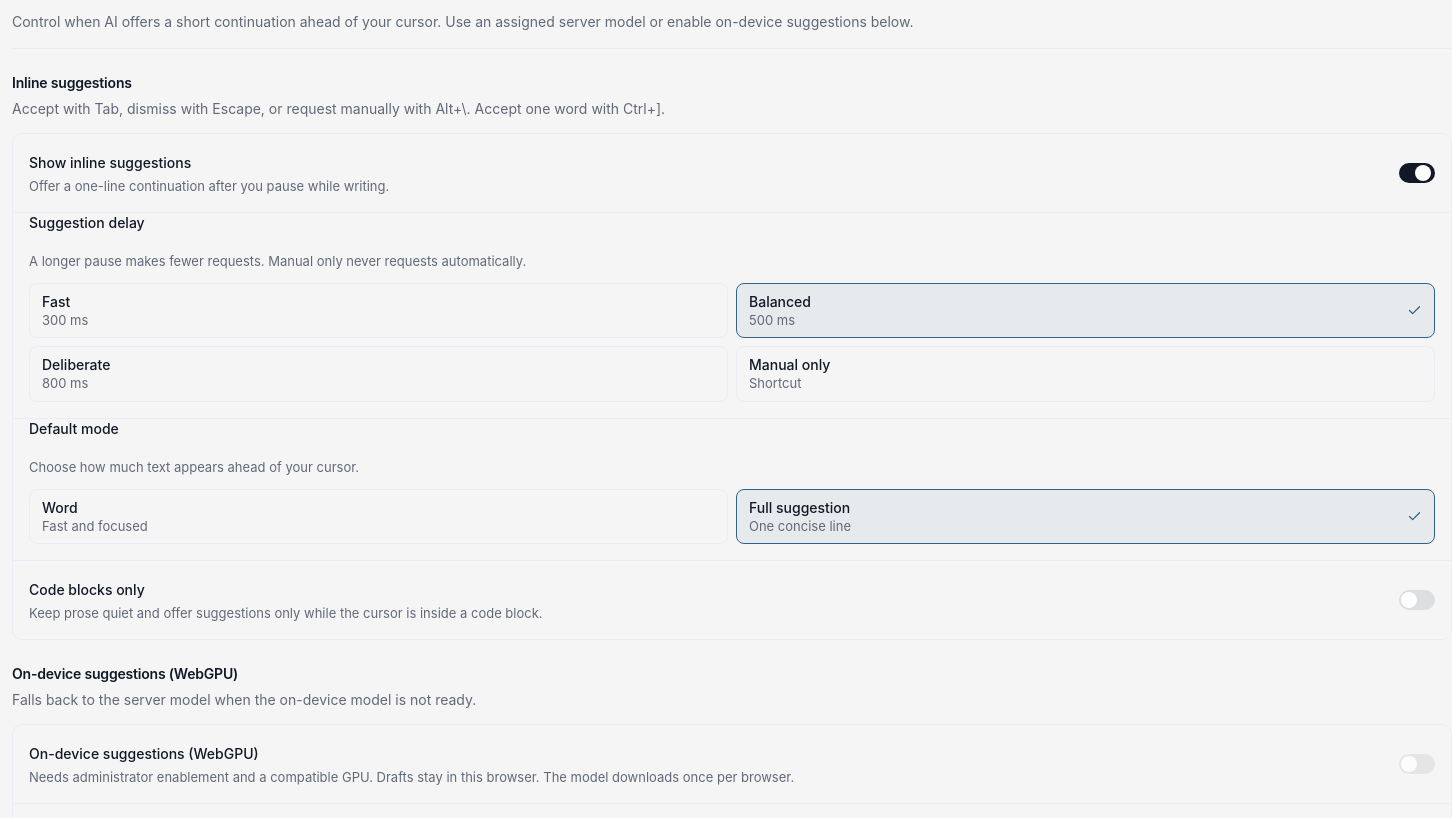
Test case: EditorPreferencesTab (#1417) › disables automatic delay choices when suggestions are off
Click the switch named "Show inline suggestions" in the row of "Show inline suggestions". click: [1417, 173]
box: [1399,163,1435,183]
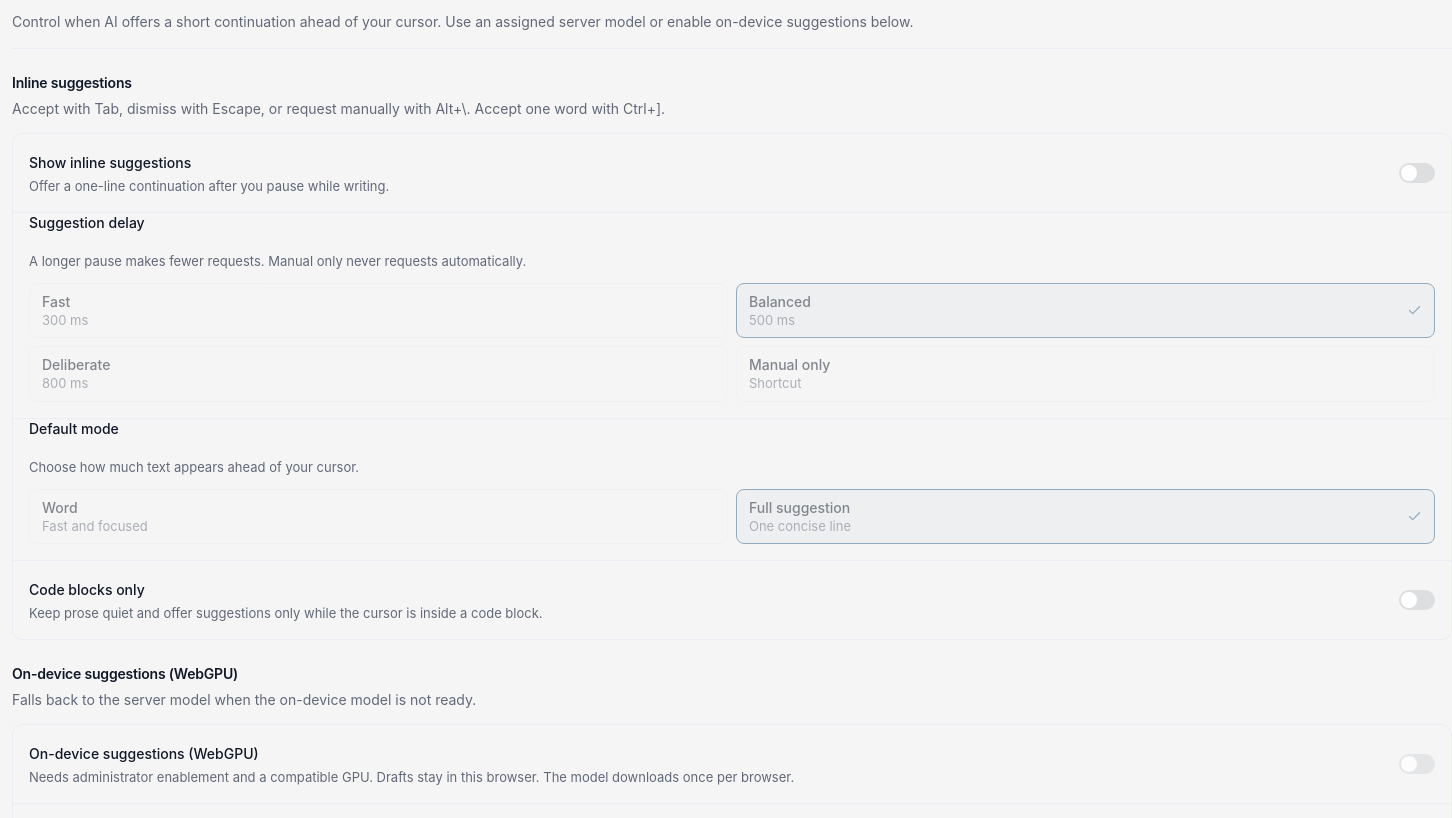
Check: the radio button with test id "inline-delay-fast" is disabled, box [29,283,728,338]
Check: the radio button with test id "inline-mode-word" is disabled, box [29,489,728,544]
